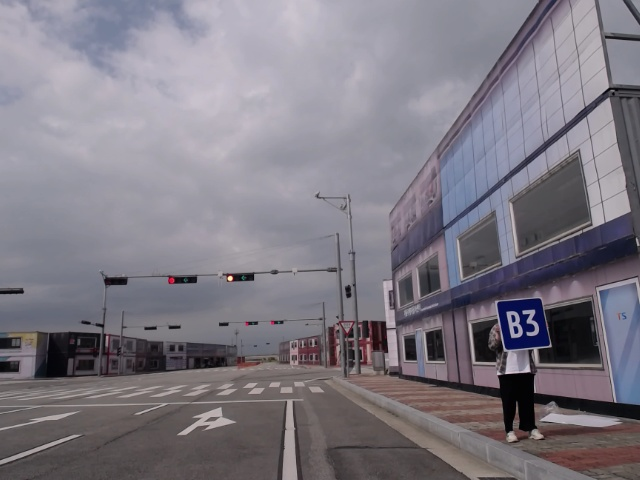delivery_b3: (496, 297, 551, 350)
left_green_4: (163, 273, 199, 284), (222, 273, 258, 283), (269, 318, 285, 326), (244, 320, 261, 327)
